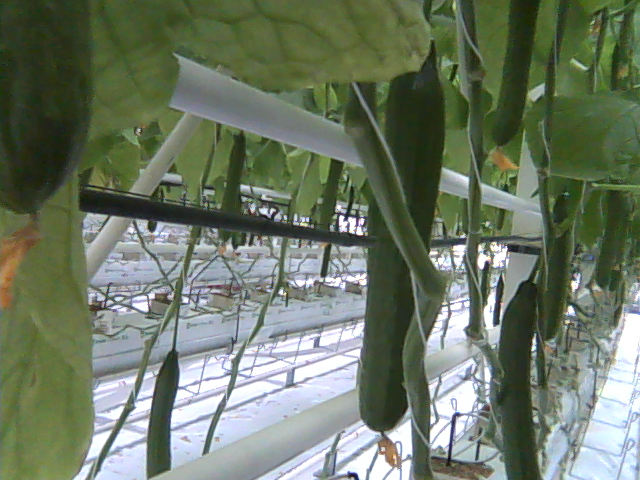concombre: (355, 33, 447, 469), (1, 1, 96, 323), (495, 274, 553, 480), (488, 1, 545, 181)
